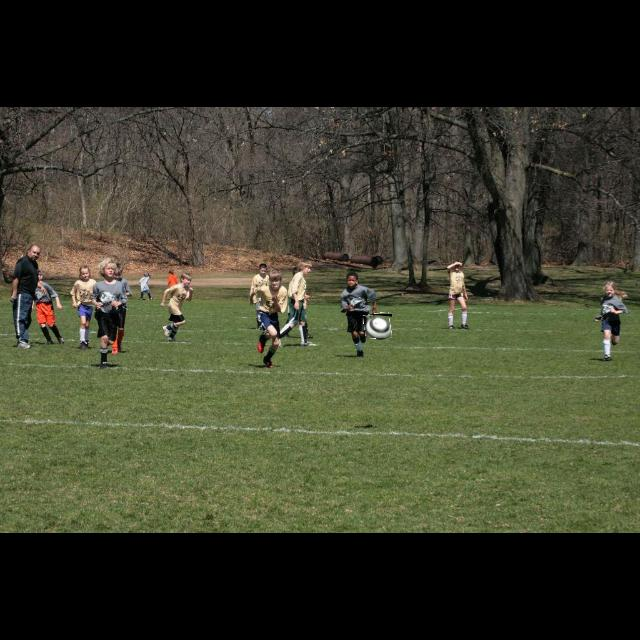Football: (364, 314, 392, 338)
